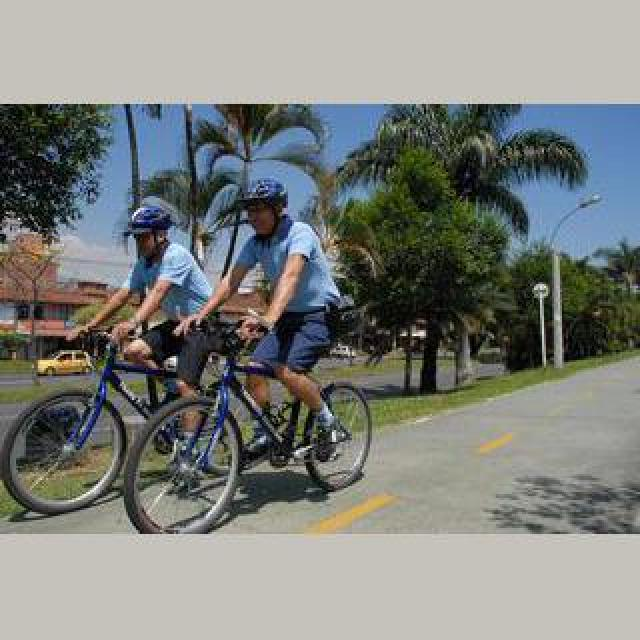Bus-Bike: (32, 350, 92, 378)
MC-Bike: (178, 180, 346, 462), (80, 202, 212, 410)
Person: (123, 314, 375, 534), (1, 337, 203, 517)
